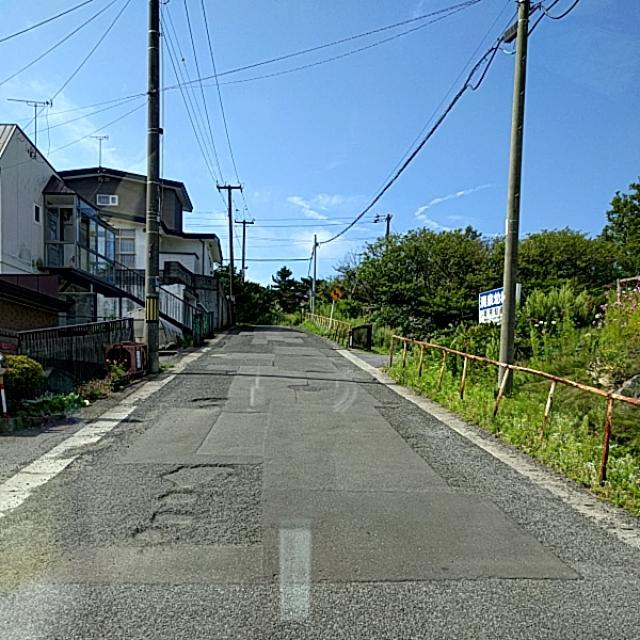pothole: (458, 464, 595, 594), (287, 358, 320, 427)
